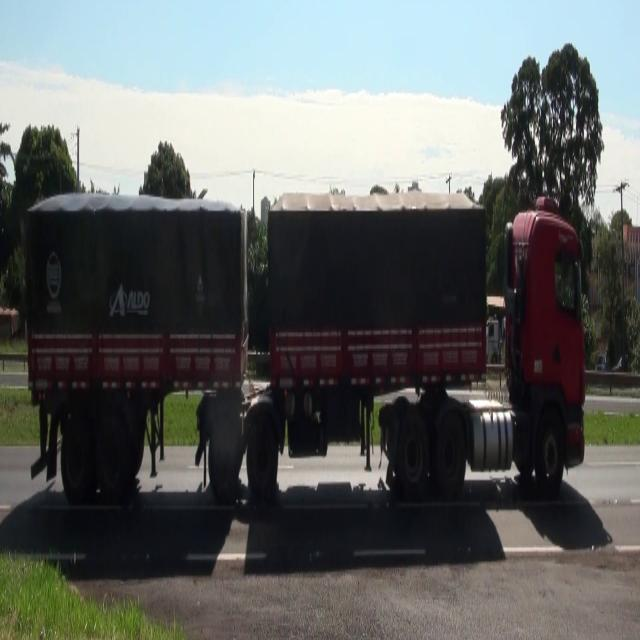-axle: (390, 409, 427, 500), (207, 413, 243, 506), (96, 410, 130, 506), (434, 410, 466, 500), (61, 414, 93, 503), (536, 403, 566, 494), (247, 422, 273, 508)
